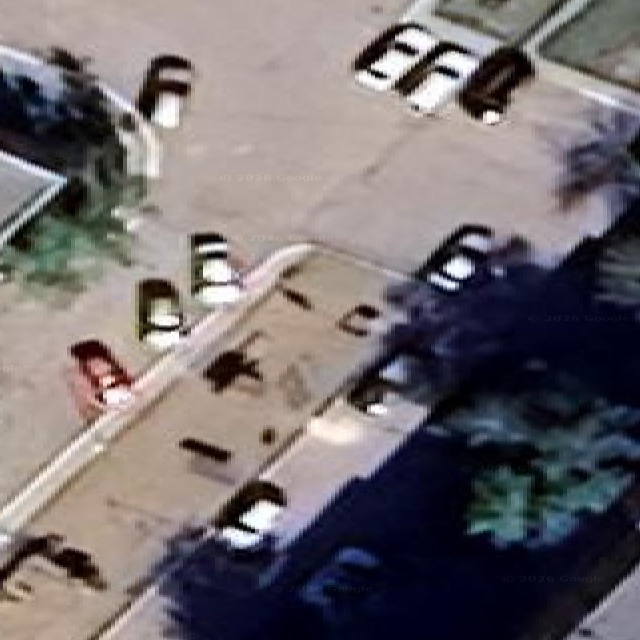car: (395, 42, 478, 114), (459, 47, 534, 124), (353, 23, 436, 91), (299, 547, 380, 615), (413, 225, 493, 292), (216, 480, 285, 554), (346, 353, 420, 416), (70, 339, 132, 408), (136, 55, 193, 128), (191, 233, 241, 305), (137, 279, 183, 349)
